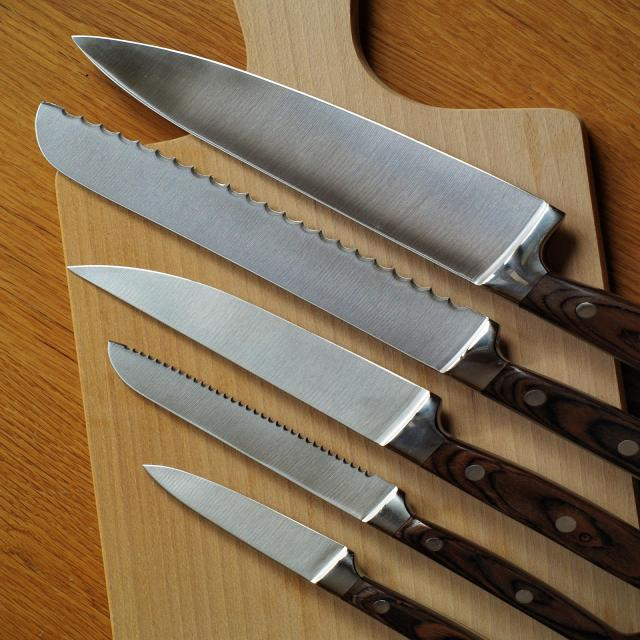Knife: (36, 102, 639, 478), (73, 36, 639, 368), (69, 265, 639, 588), (109, 342, 639, 640), (143, 465, 485, 640)
